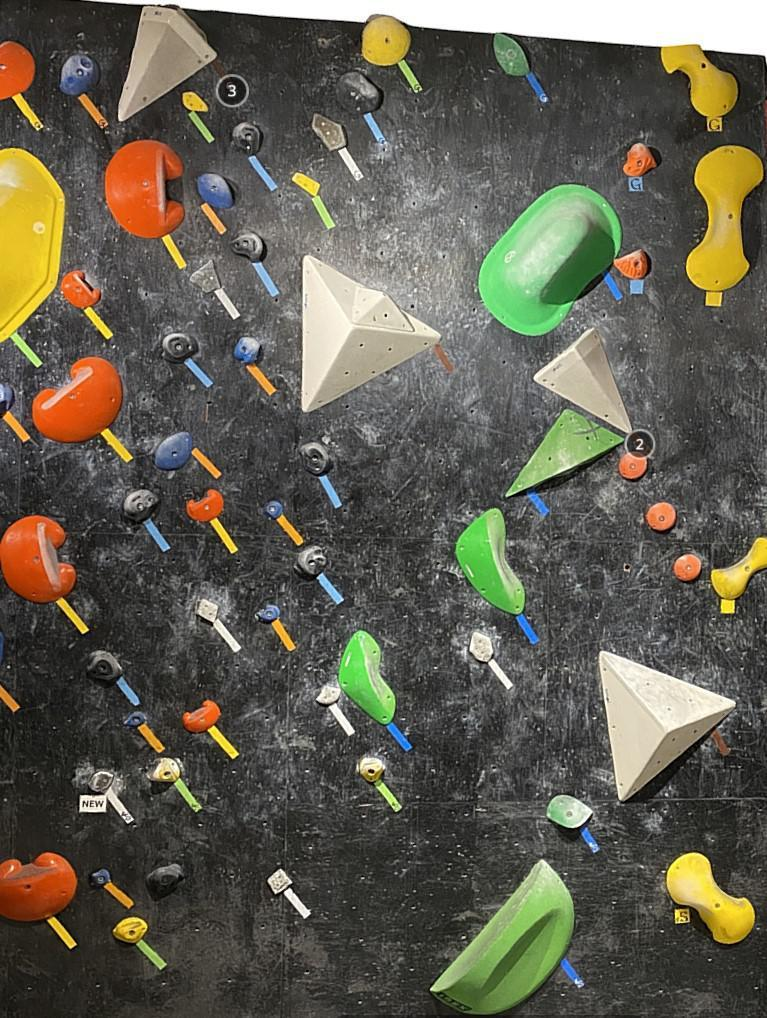hold: (429, 858, 574, 1015), (479, 184, 622, 336), (0, 148, 65, 343), (686, 145, 763, 291), (504, 408, 624, 498), (666, 852, 756, 945), (105, 139, 185, 239), (32, 357, 122, 443), (454, 508, 525, 615), (0, 514, 76, 604), (661, 45, 738, 118), (339, 630, 396, 725), (0, 851, 77, 920), (711, 537, 767, 599), (362, 15, 412, 66), (0, 41, 36, 101), (336, 71, 382, 115), (58, 53, 101, 96), (493, 33, 531, 77), (546, 794, 593, 828), (154, 431, 193, 471), (62, 269, 101, 309), (145, 863, 185, 901), (87, 649, 123, 688), (197, 172, 234, 209), (182, 698, 221, 733), (312, 113, 347, 152), (122, 489, 160, 524), (298, 442, 335, 476), (186, 489, 224, 522), (161, 332, 199, 365), (293, 545, 327, 581), (623, 143, 657, 177), (613, 248, 648, 280), (189, 259, 221, 293), (230, 232, 264, 262), (232, 121, 261, 156), (112, 916, 148, 943), (646, 502, 677, 531), (618, 451, 648, 480), (673, 554, 702, 582), (232, 337, 261, 364), (469, 631, 493, 662), (267, 867, 293, 894), (292, 172, 320, 197), (152, 758, 181, 782), (359, 757, 385, 782), (182, 90, 209, 113), (88, 771, 114, 793), (197, 598, 219, 624), (254, 604, 281, 624), (315, 686, 341, 705), (0, 383, 14, 418), (90, 868, 112, 889), (263, 499, 283, 520), (123, 711, 145, 727), (0, 629, 4, 666)
volume: (302, 255, 441, 413), (599, 650, 736, 802), (118, 6, 217, 122), (533, 327, 633, 435), (352, 284, 414, 331)
